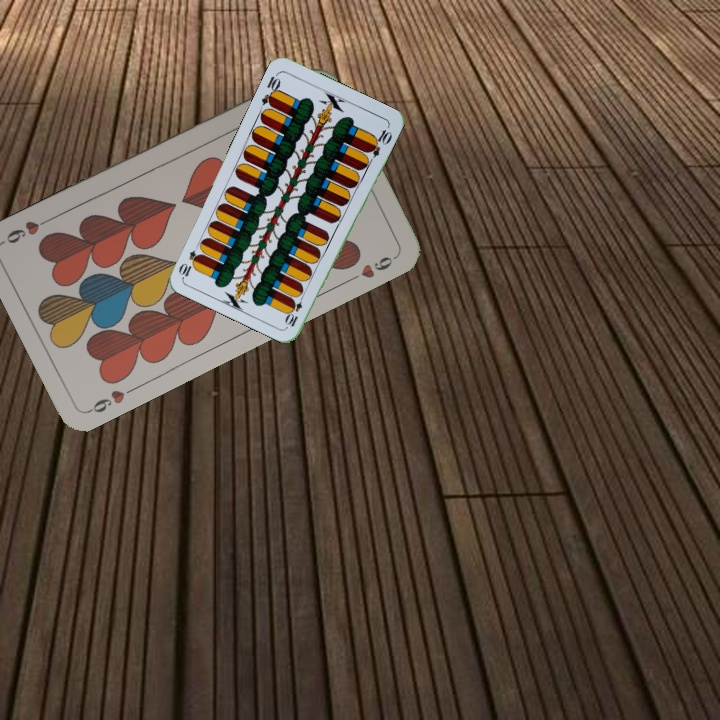E10: (257, 69, 283, 109), (282, 290, 307, 329)
H9: (84, 386, 127, 416)
